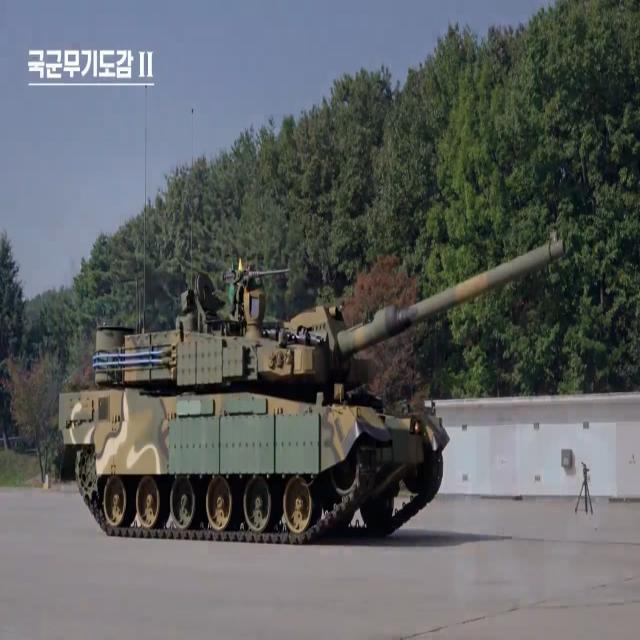korea tank: (57, 226, 567, 543)
